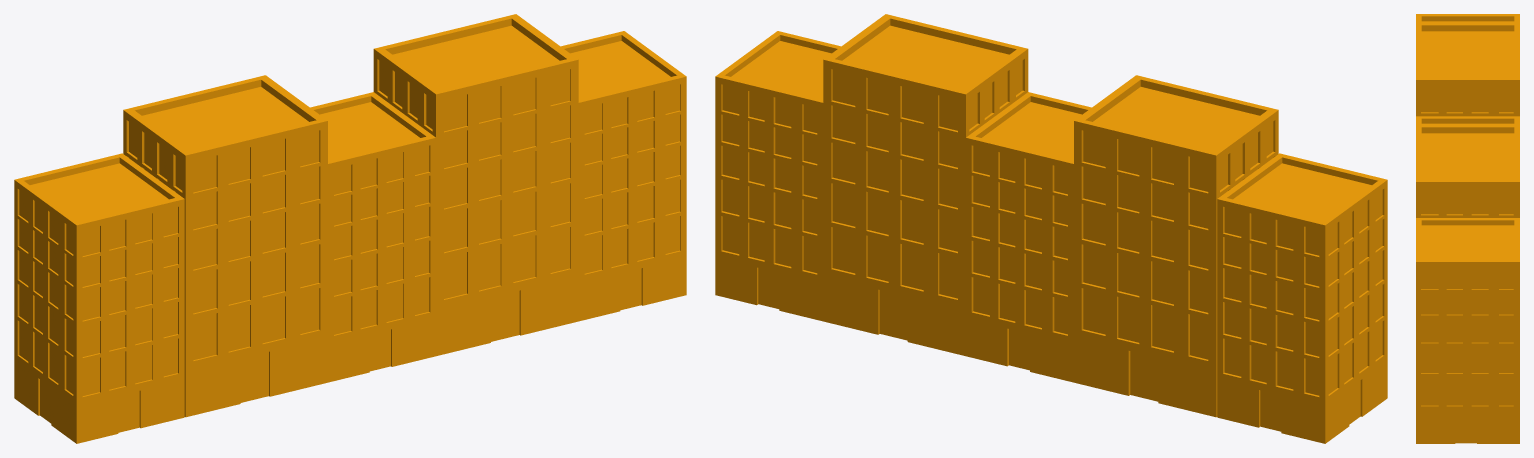
Rendered from Building2.fbx.
3 views of the same model, side by side, from view 1: azimuth 30°, elevation 25°; view 2: azimuth 150°, elevation 25°; view 3: azimuth 270°, elevation 25° (orthographic). The views are drawn at different scales.
Parts seen in each view (by area): view 1: group_12_1; view 2: group_12_1; view 3: group_12_1.
Boxes of the visible parts, x1,y1,x2,y2 form: group_12_1: [14, 14, 686, 443]; group_12_1: [715, 14, 1387, 443]; group_12_1: [1416, 14, 1519, 443].
Size of the model in its own units: 3824 by 1568 by 678.
